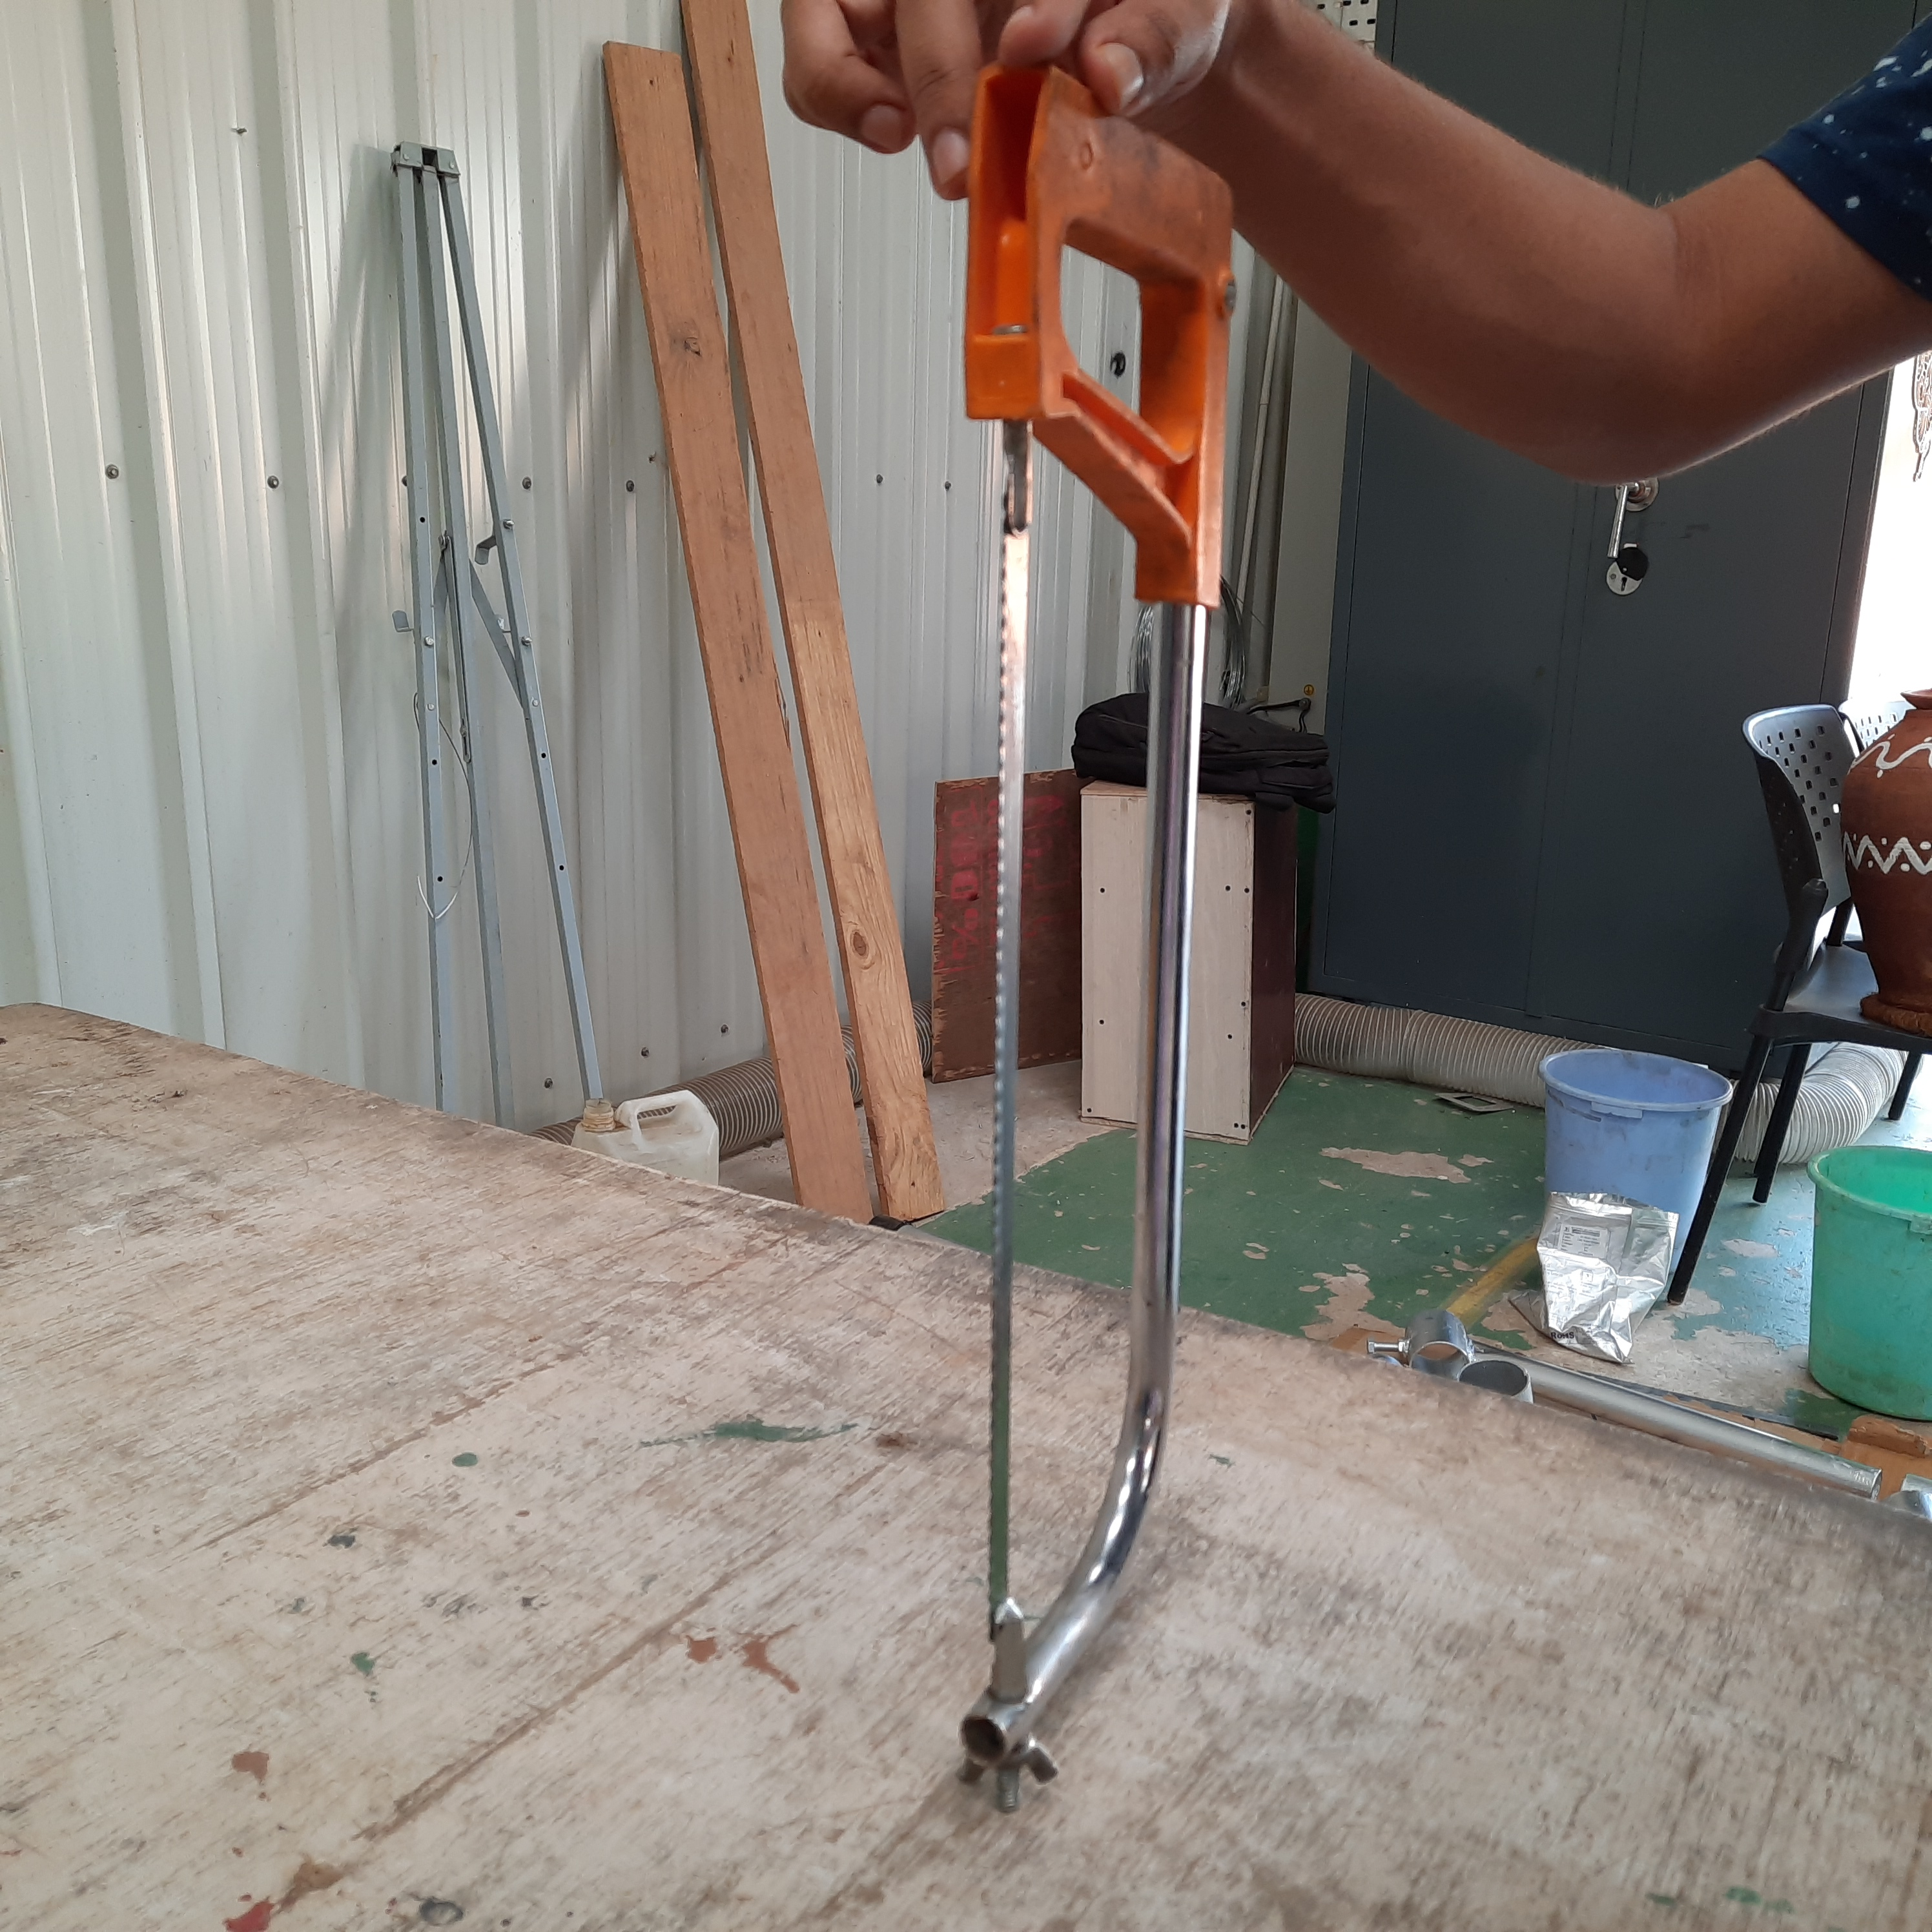Hexaframe: (929, 34, 1238, 1783)
